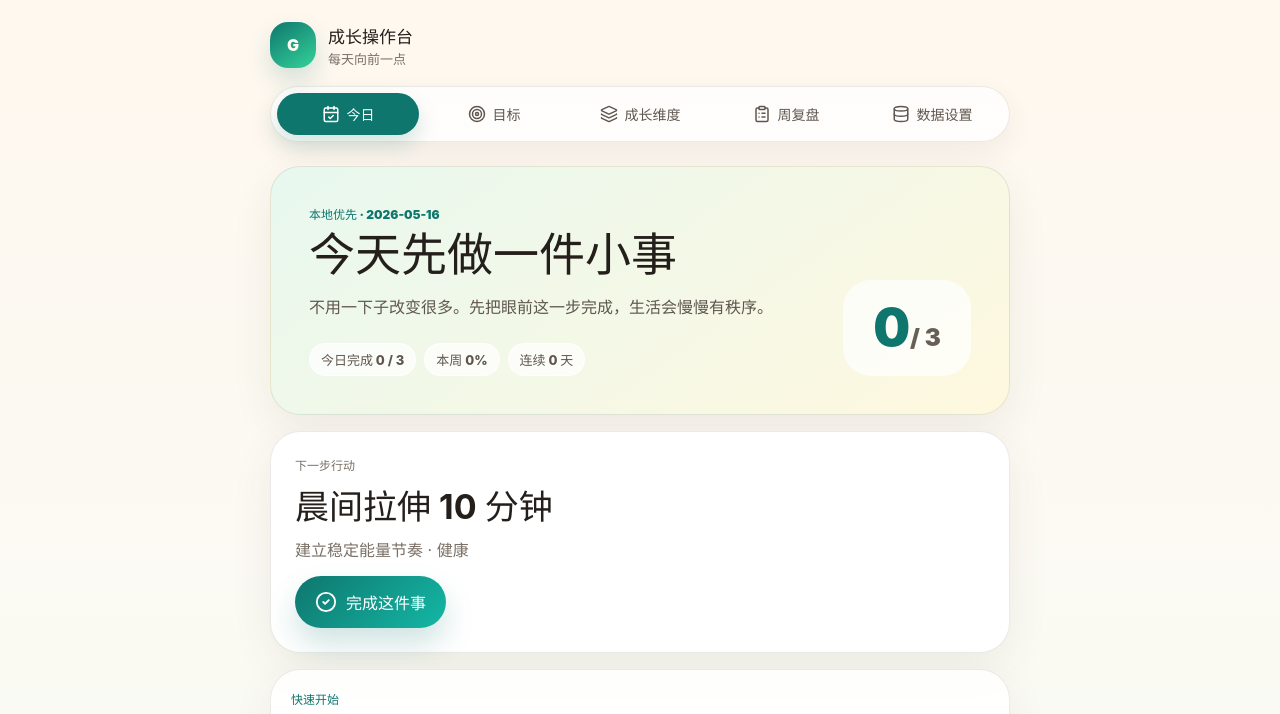
Scenario: Growth OS app › promotes the next action as the primary home action
The width and height of the screenshot is (1280, 714).
Step 1. Click the button with aria-label "完成晨间拉伸 10 分钟" → x=370, y=602, box [295, 576, 446, 628]
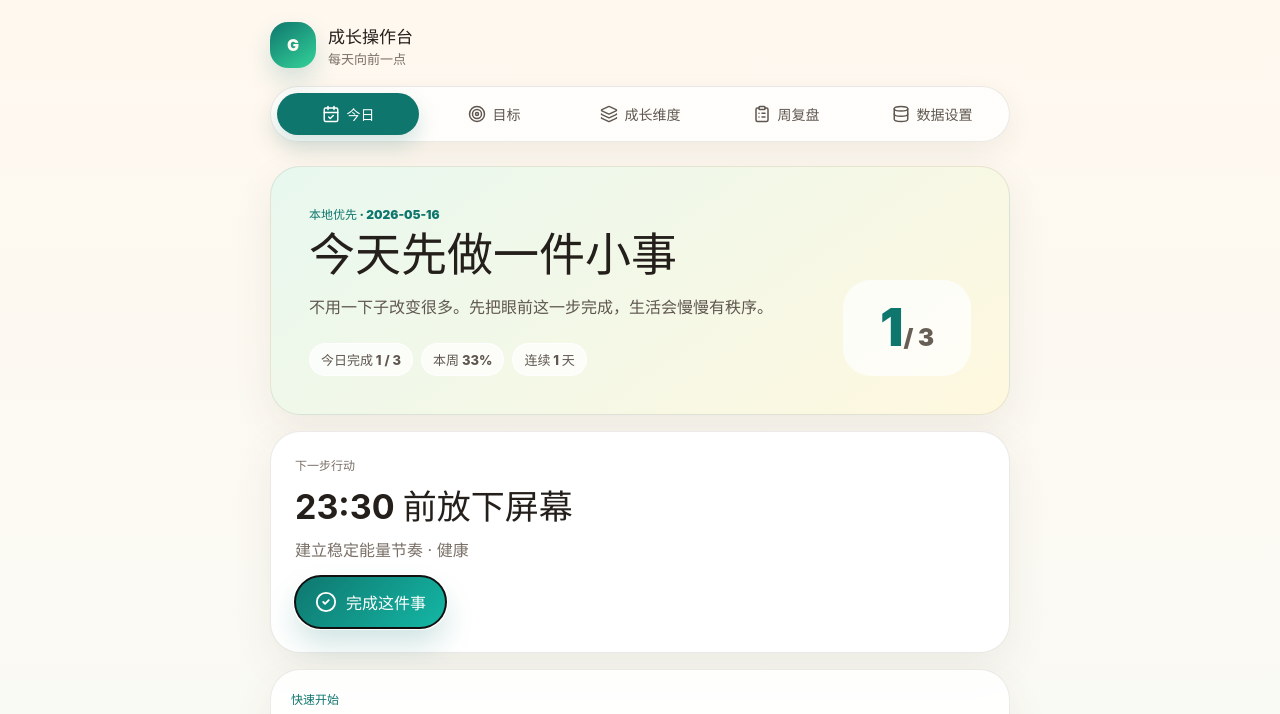
Check: the text "今日完成 1 / 3" is shown, box [309, 343, 413, 376]
